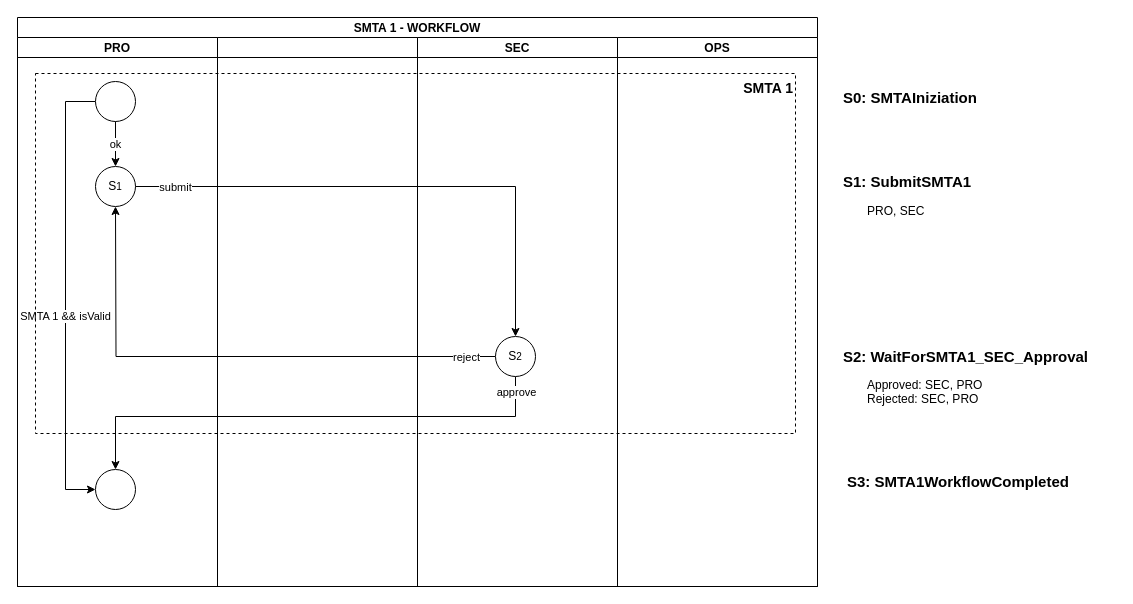
The diagram is 1133 pixels wide and 604 high, and some of its shapes have lost their labels. The centre of each missing label's shape, as x and y in pixels:
"BHF" belongs at point 317,311.
"S 0" belongs at point 115,101.
"S 3" belongs at point 115,489.
